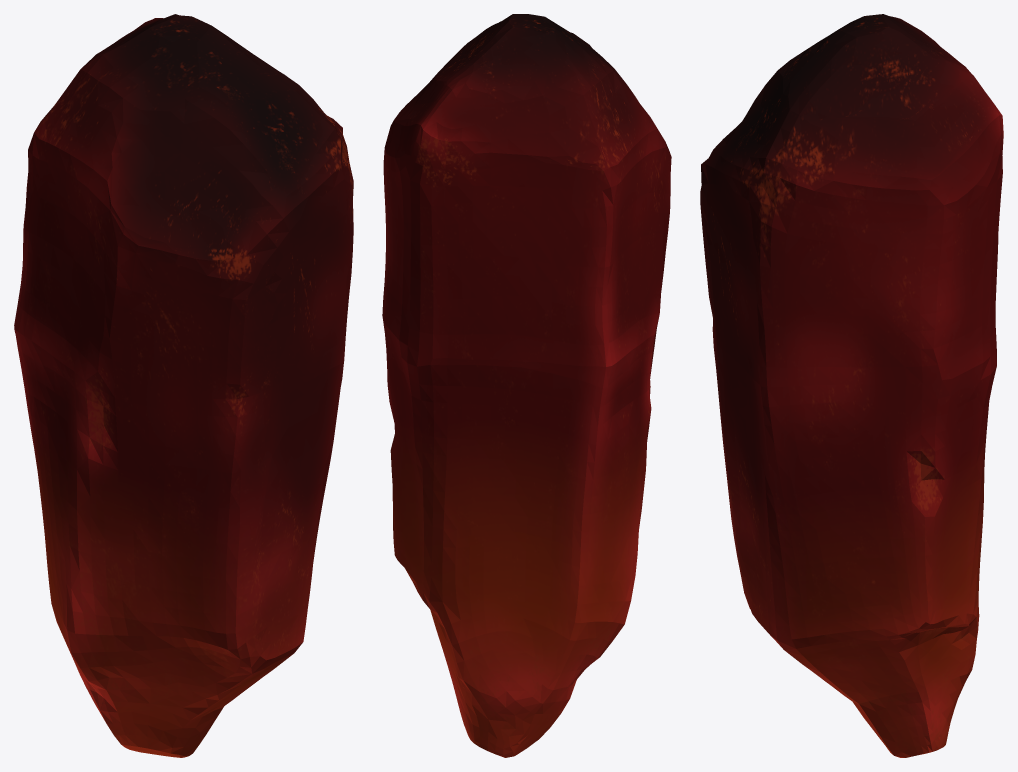
File: Gema_02.OBJ
3 views of the same model, side by side, from view 1: azimuth 30°, elevation 25°; view 2: azimuth 150°, elevation 25°; view 3: azimuth 270°, elevation 25° (orthographic). The views are drawn at different scales.
Visible parts, largest first — view 1: Group37038; view 2: Group37038; view 3: Group37038.
Boxes of the visible parts, box(x1,y1,x2,y2) form: Group37038: box(14, 14, 353, 757); Group37038: box(382, 14, 671, 757); Group37038: box(700, 14, 1003, 757).
Bounding box in the file's own units: 0.9499 × 2.71 × 1.03.
1 material, 1 textured.
